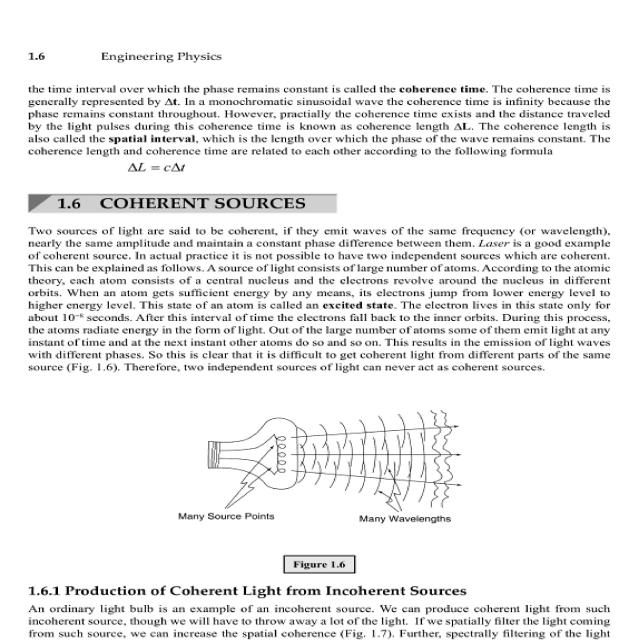diagram: (84, 409, 508, 576)
